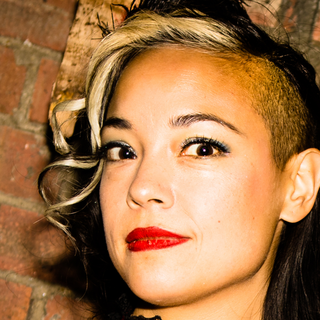eye: (182, 135, 229, 164), (103, 136, 138, 165)
